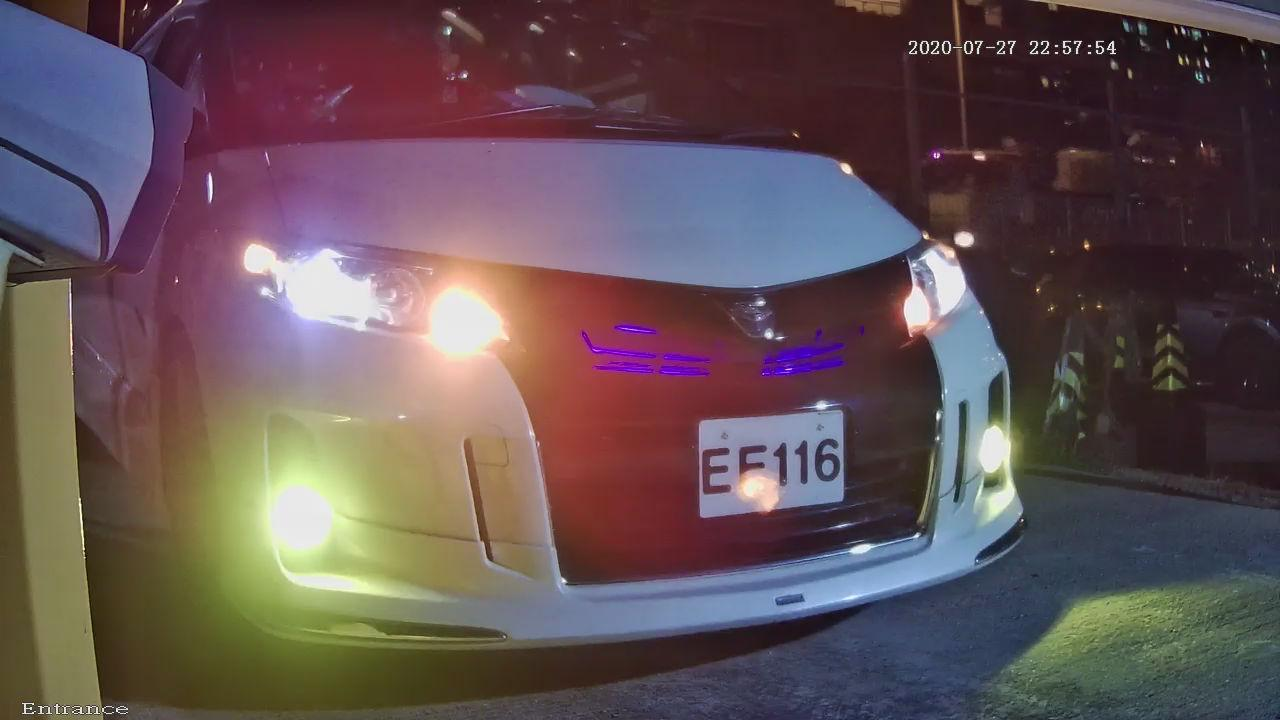privatecar: (81, 7, 1058, 714)
